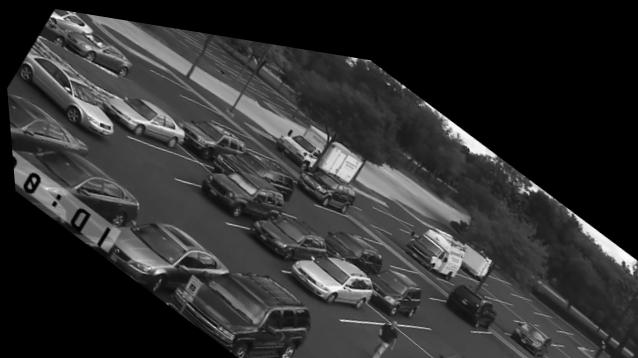empty: (335, 307, 430, 355), (128, 137, 209, 176), (155, 64, 217, 105), (316, 196, 371, 226), (407, 313, 463, 341), (184, 94, 238, 123), (361, 226, 411, 256), (470, 319, 520, 344), (230, 122, 273, 149), (399, 254, 440, 281), (375, 197, 419, 221), (280, 191, 320, 215), (482, 281, 518, 304), (455, 260, 492, 280), (546, 327, 577, 349), (555, 326, 589, 346), (503, 285, 535, 304), (478, 265, 510, 284), (532, 307, 564, 325), (490, 261, 520, 278), (487, 291, 509, 313), (557, 313, 591, 327), (532, 297, 563, 310), (512, 279, 540, 293), (580, 346, 606, 358), (564, 348, 590, 358), (557, 349, 570, 358)
occupied: (155, 267, 304, 353), (10, 148, 135, 217), (79, 220, 228, 276), (284, 244, 369, 301), (198, 162, 281, 216), (99, 93, 183, 143), (6, 95, 84, 148), (241, 208, 322, 250), (293, 150, 353, 204), (222, 142, 291, 187), (400, 214, 462, 264), (64, 27, 131, 73), (320, 218, 386, 263), (435, 269, 493, 316), (367, 257, 418, 306), (179, 114, 242, 152), (506, 303, 547, 339), (415, 340, 483, 358), (519, 337, 562, 358), (38, 15, 67, 45)
